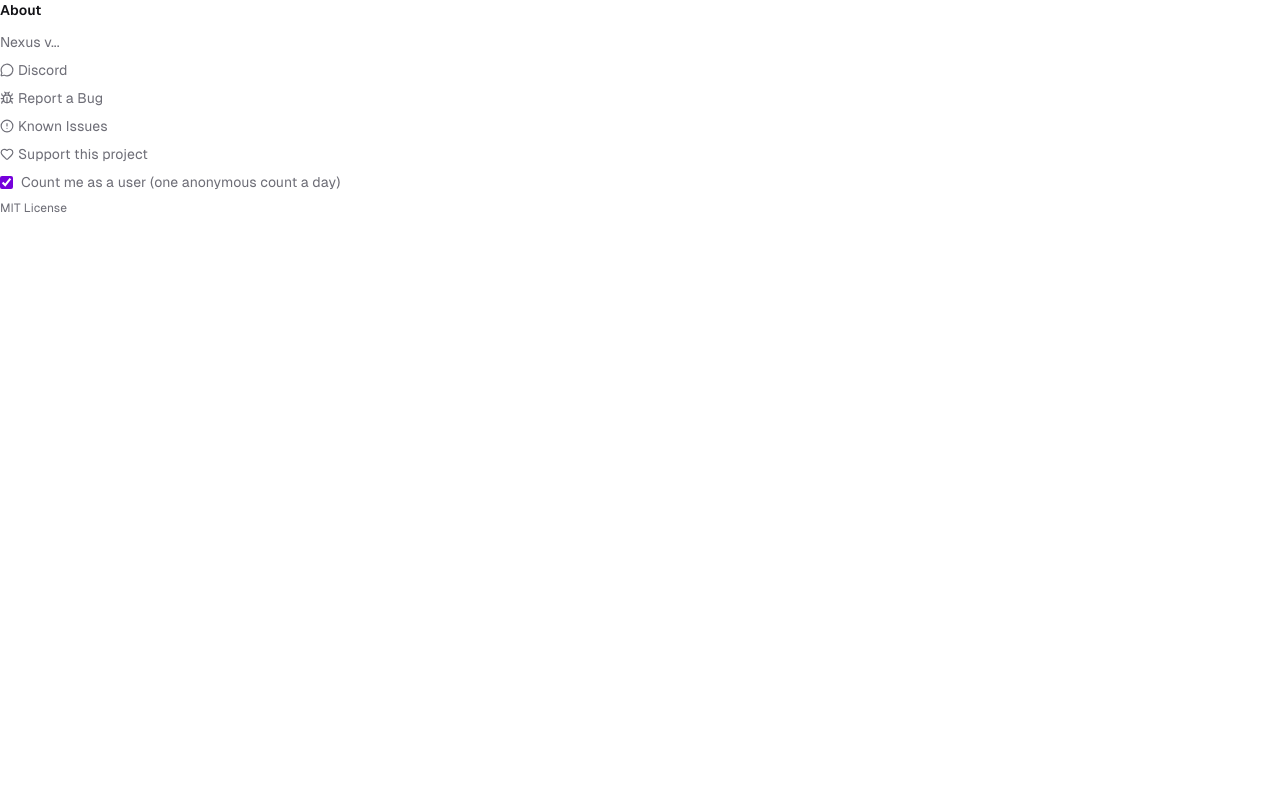
it: AboutSection — Known Issues link (Story 21.2) › opens the dialog when Known Issues link is clicked
What coordinates should you click on to do the following:
click the button with test id "about-known-issues"
I would click on:
 (63, 126)
Its box is [0,116,1279,136].
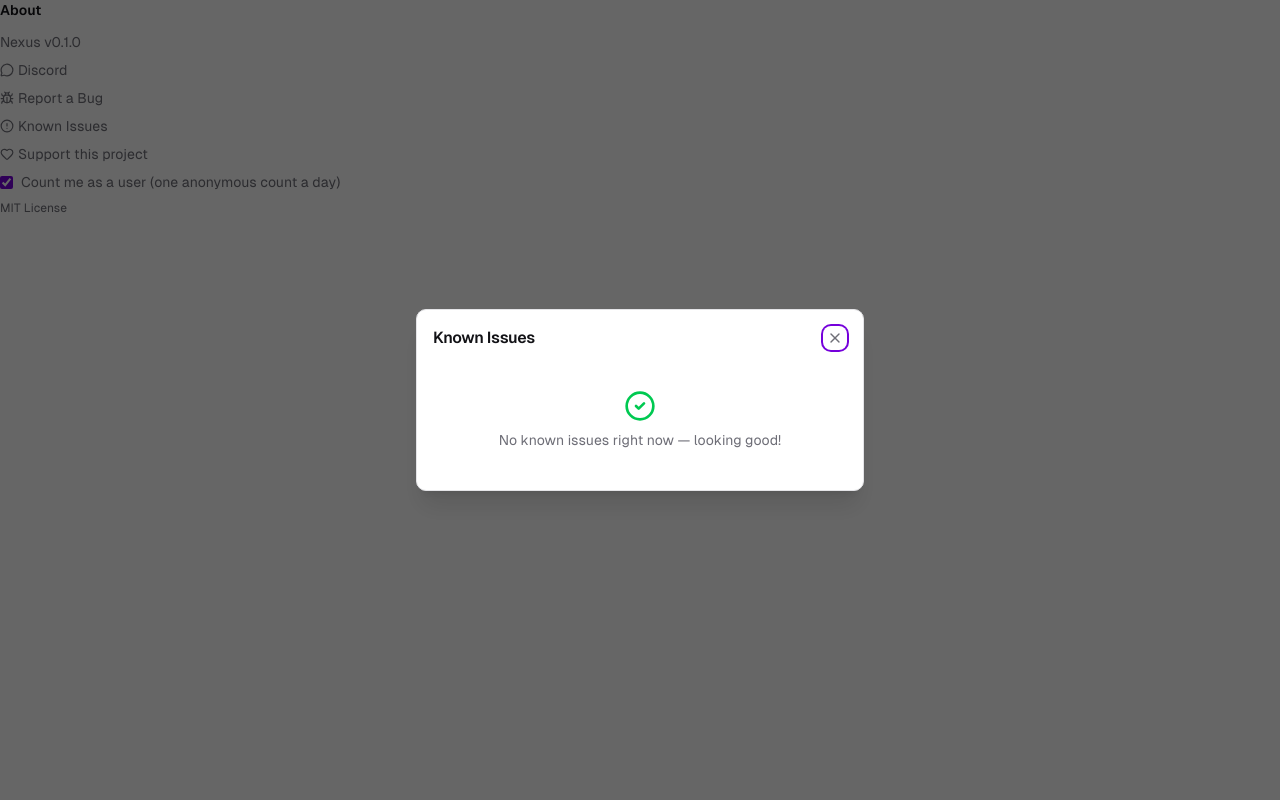
Expected: the dialog is shown
Expected: the button named "Close known issues dialog" is shown, [823,326,847,350]
